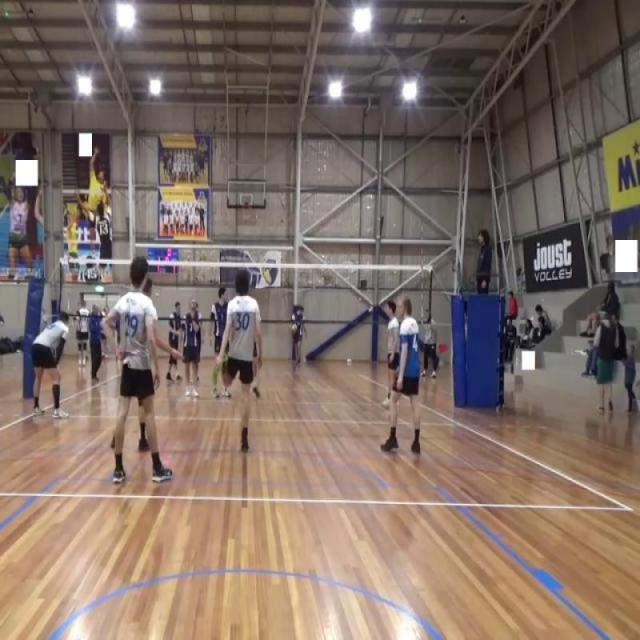volleyball: (291, 323, 298, 333)
